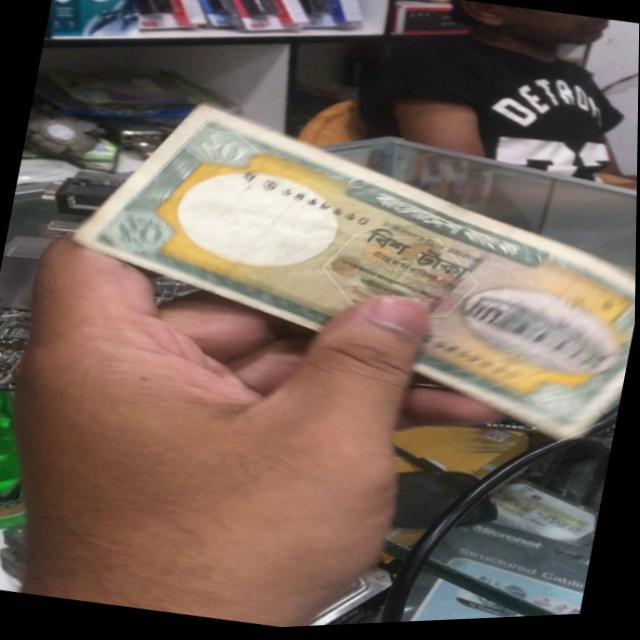Taka: (85, 86, 639, 460)
